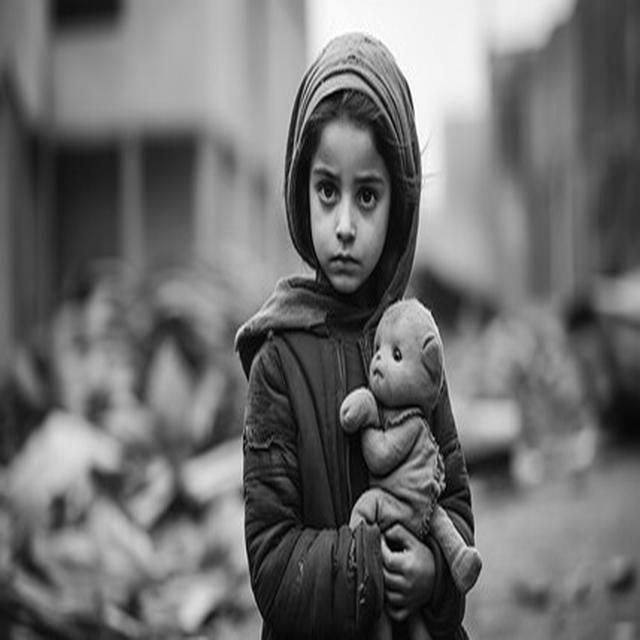Fear: (310, 120, 390, 292)
